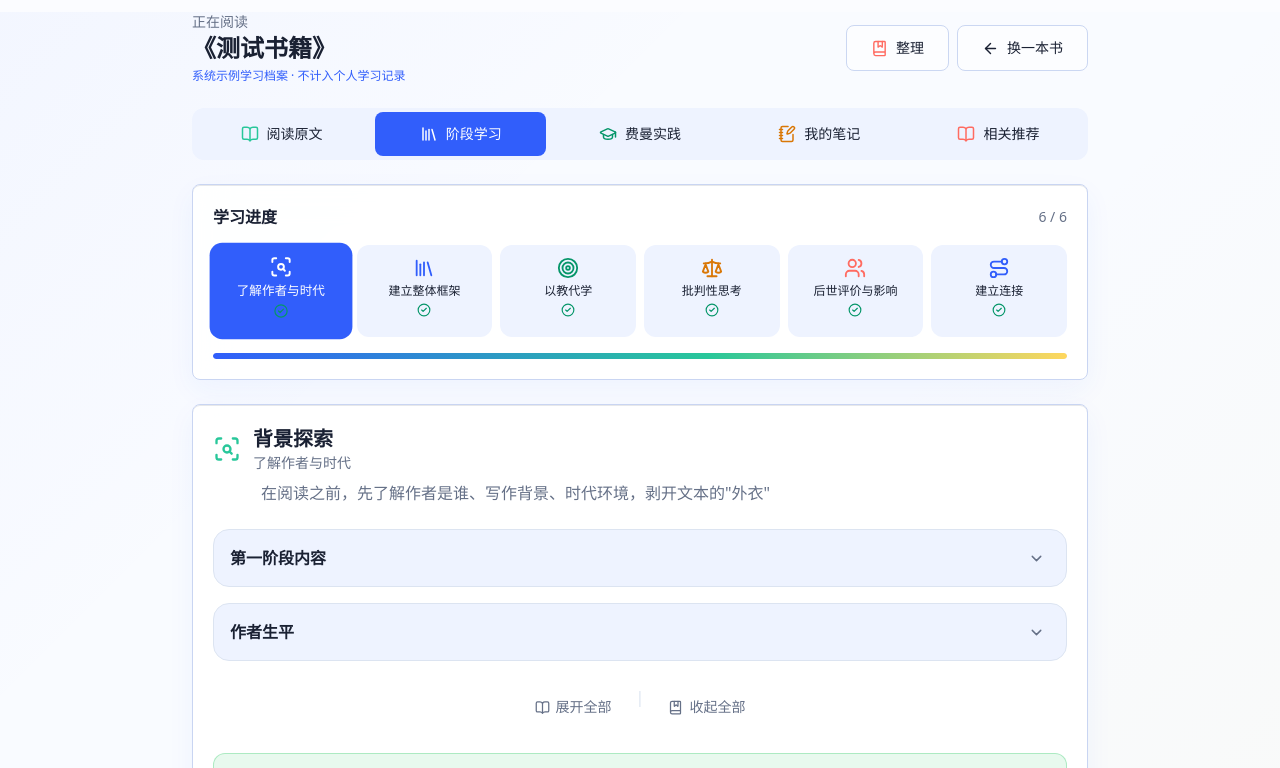
ReadingView navigation position › continues from the final sample phase to the top of Feynman Practice
Click the button with aria-label "第 6 阶段：融会贯通".
click(999, 291)  # box [931, 245, 1067, 337]
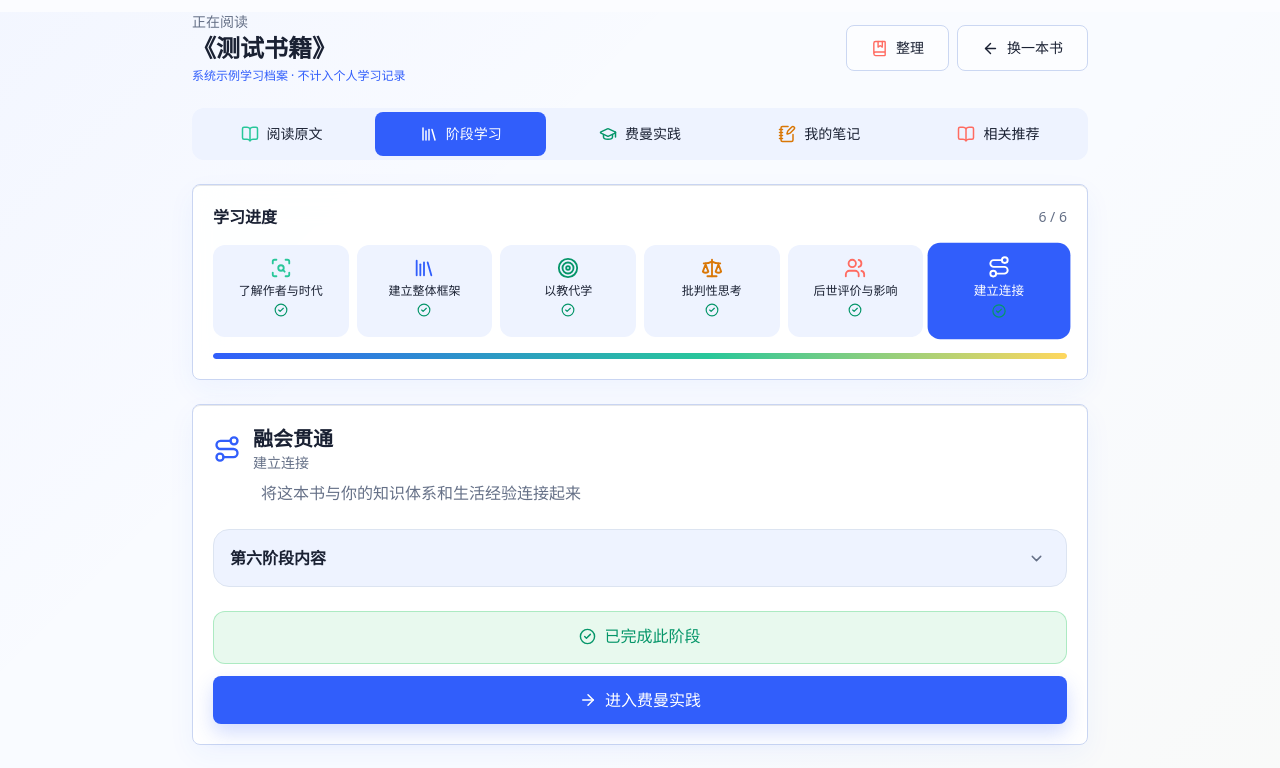
Click the button "进入费曼实践".
click(640, 700)  # box [213, 676, 1067, 724]
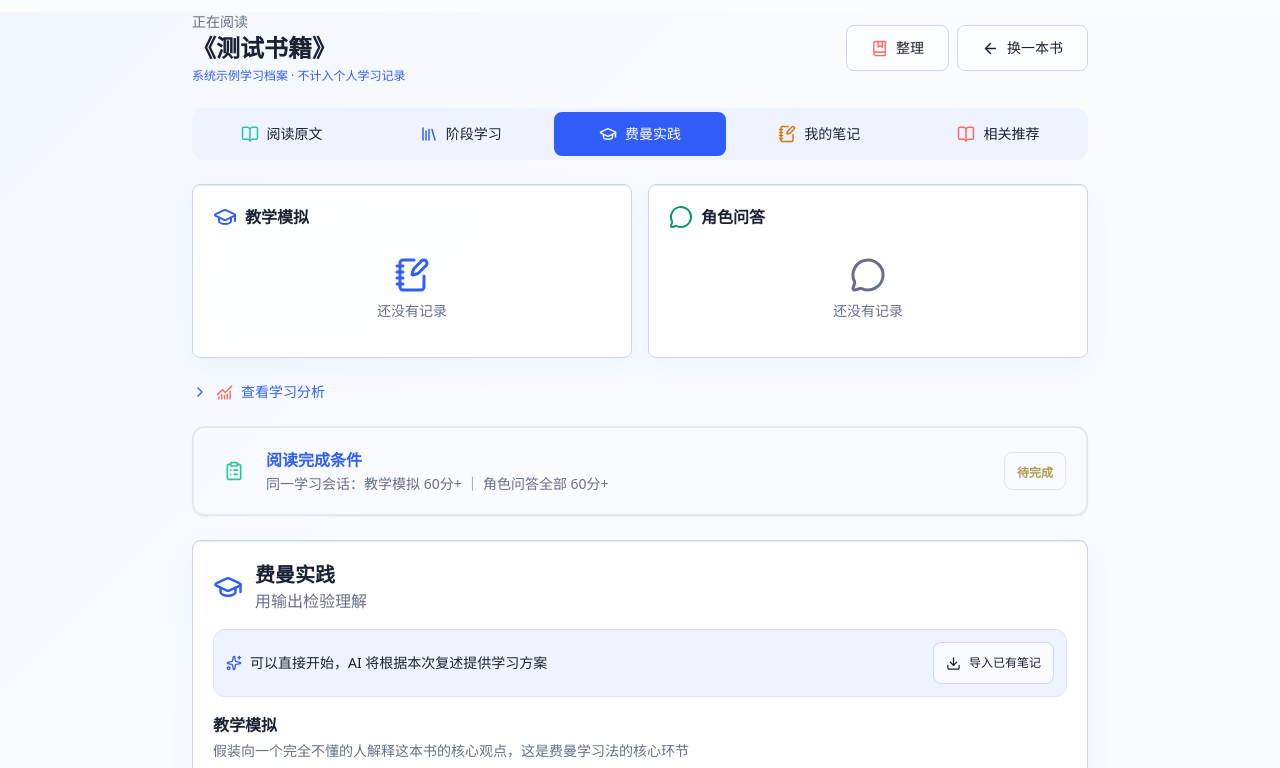
Expected: the 1st heading "教学模拟" is shown, [245, 205, 309, 229]
